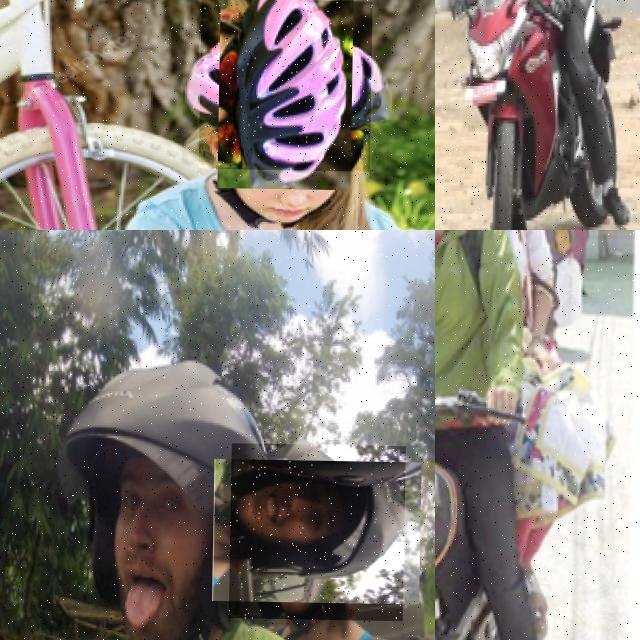helmet: (53, 349, 274, 640), (228, 442, 406, 620), (198, 0, 372, 171)
